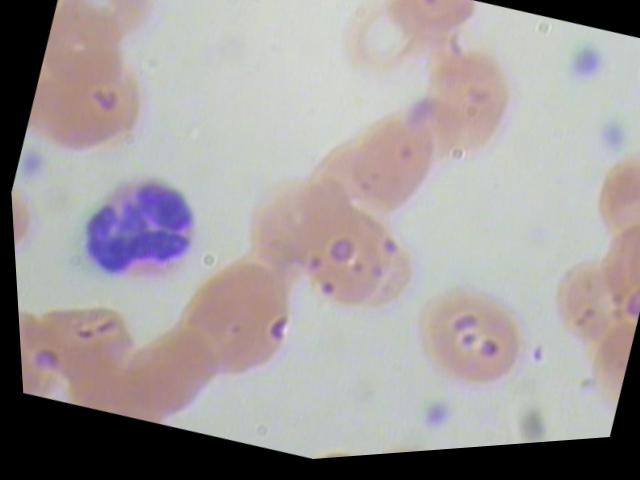Platelets: (586, 122, 638, 172), (409, 398, 460, 448), (561, 48, 612, 98), (11, 143, 60, 192)
Red Blood Cells: (154, 239, 306, 403), (397, 277, 545, 415), (315, 101, 463, 238), (18, 39, 165, 176), (309, 0, 457, 119), (34, 0, 181, 116), (403, 43, 525, 176), (281, 200, 404, 323), (232, 172, 354, 295), (141, 0, 249, 13)
White Blood Cells: (56, 151, 214, 309)
